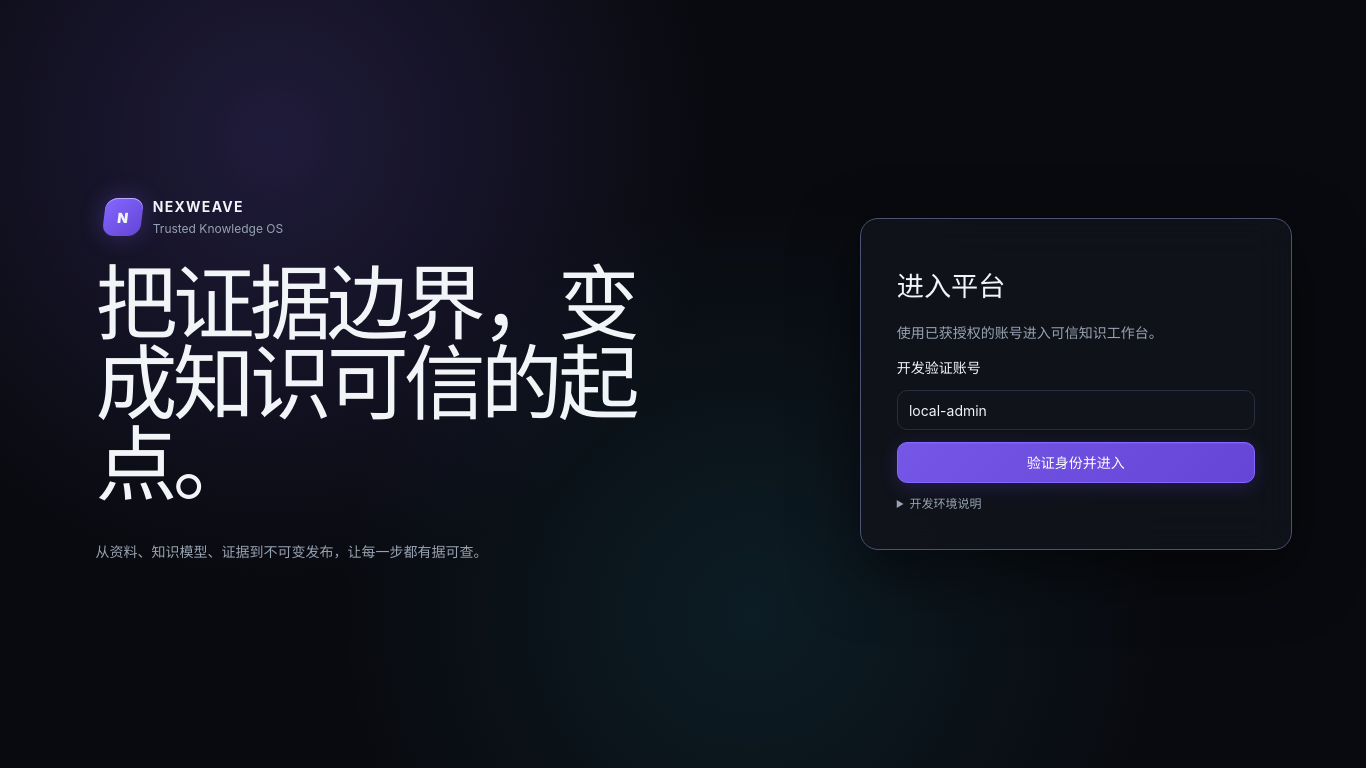
Scenario: shows a retryable authentication error instead of blanking the application
Click the button "验证身份并进入" at (1076, 463), box [897,442,1255,483]
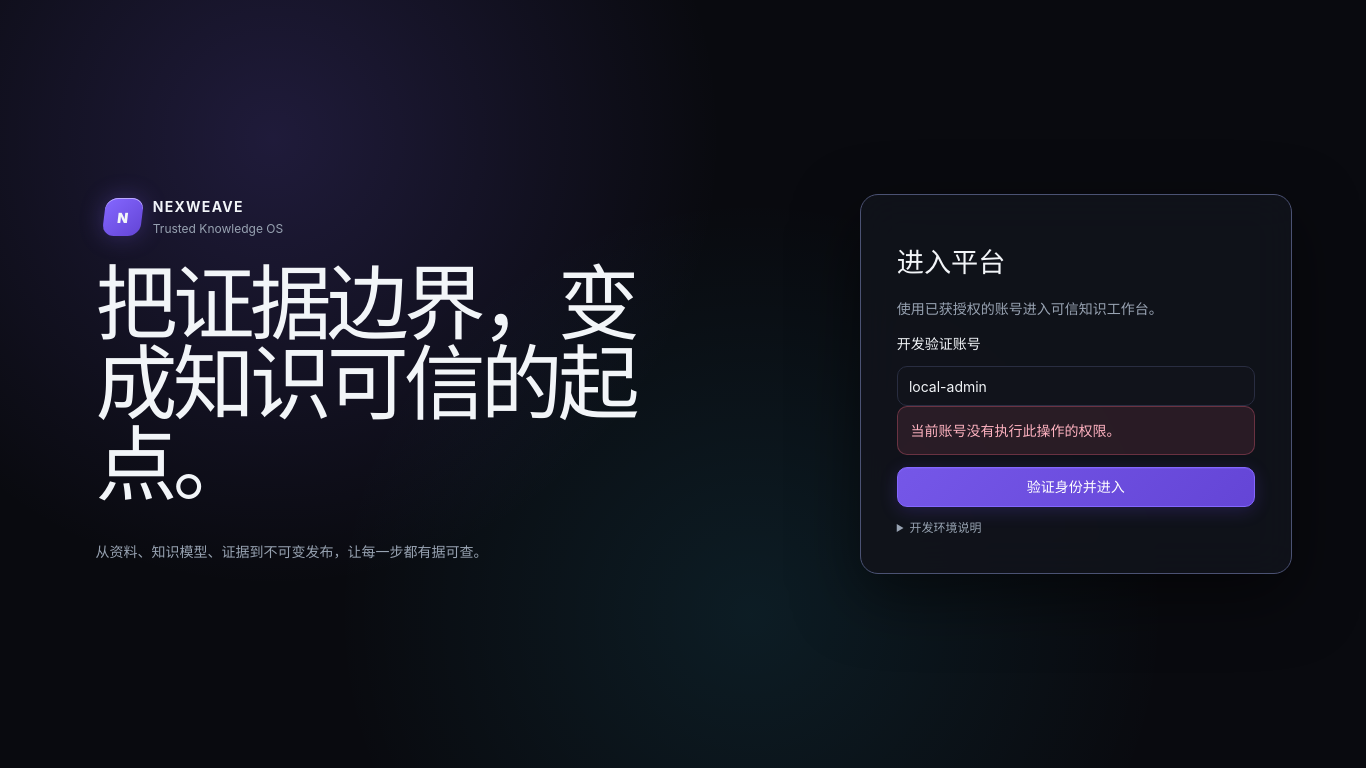
Expected: the button "验证身份并进入" is enabled, [897,467,1255,507]
Now the message shows "当前账号没有执行此操作的权限", box [910,422,1120,439]
